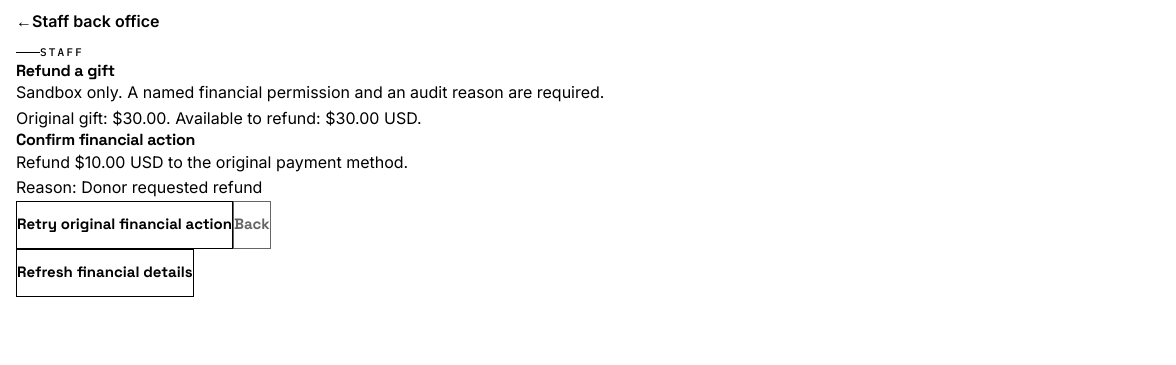
Scenario: reuses a persisted uncertain request rather than minting another refund
Click the button "Retry original financial action". click: (124, 225)
box: [16,201,233,249]
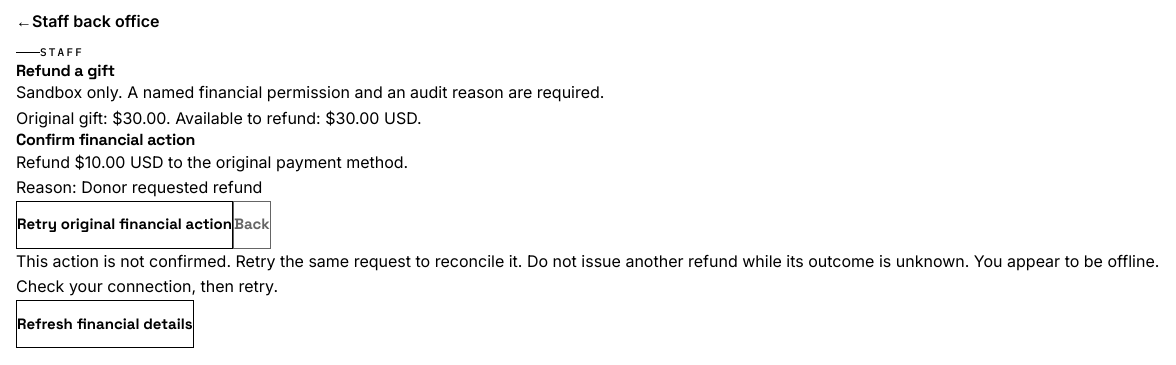
Result: the message shows "not confirmed" at [16,251,1159,296]
